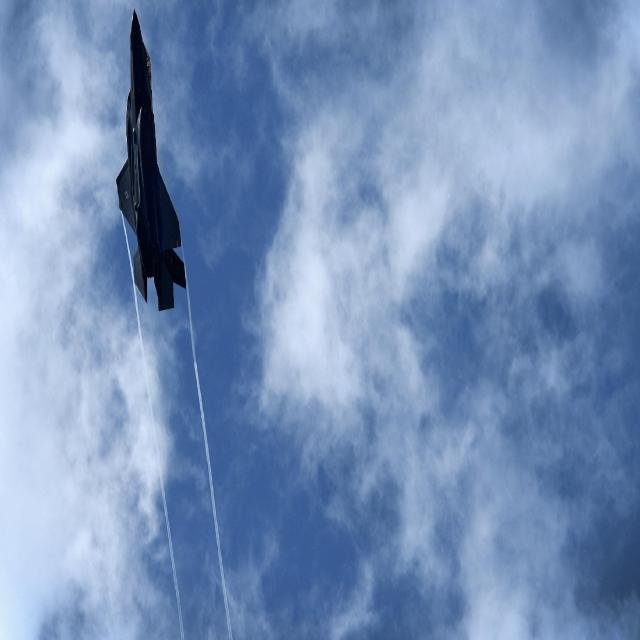MIL_Plane: (115, 6, 187, 311)
